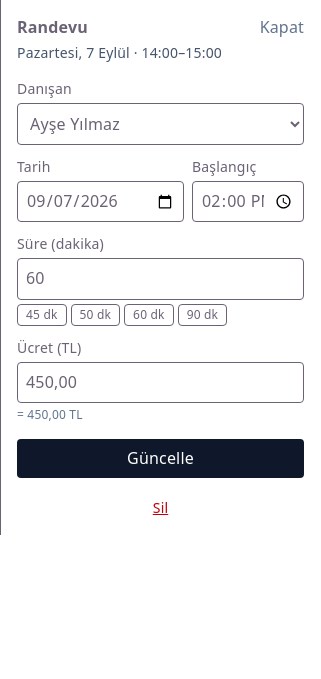
RandevuPaneli › I2: tekil silme onayi, silinecek NOT sayisini sunucudan alir ve soyler
This screenshot has width=321, height=679.
Click the button "Sil" at (160, 508), box x1=17 y1=498 x2=304 y2=518
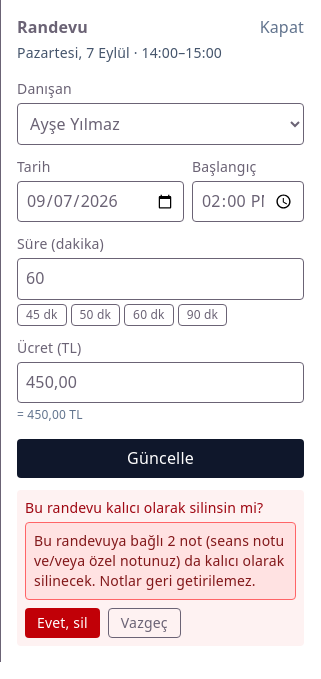
Expected: the text "geri getirilemez" is shown, x1=34 y1=531 x2=284 y2=590
